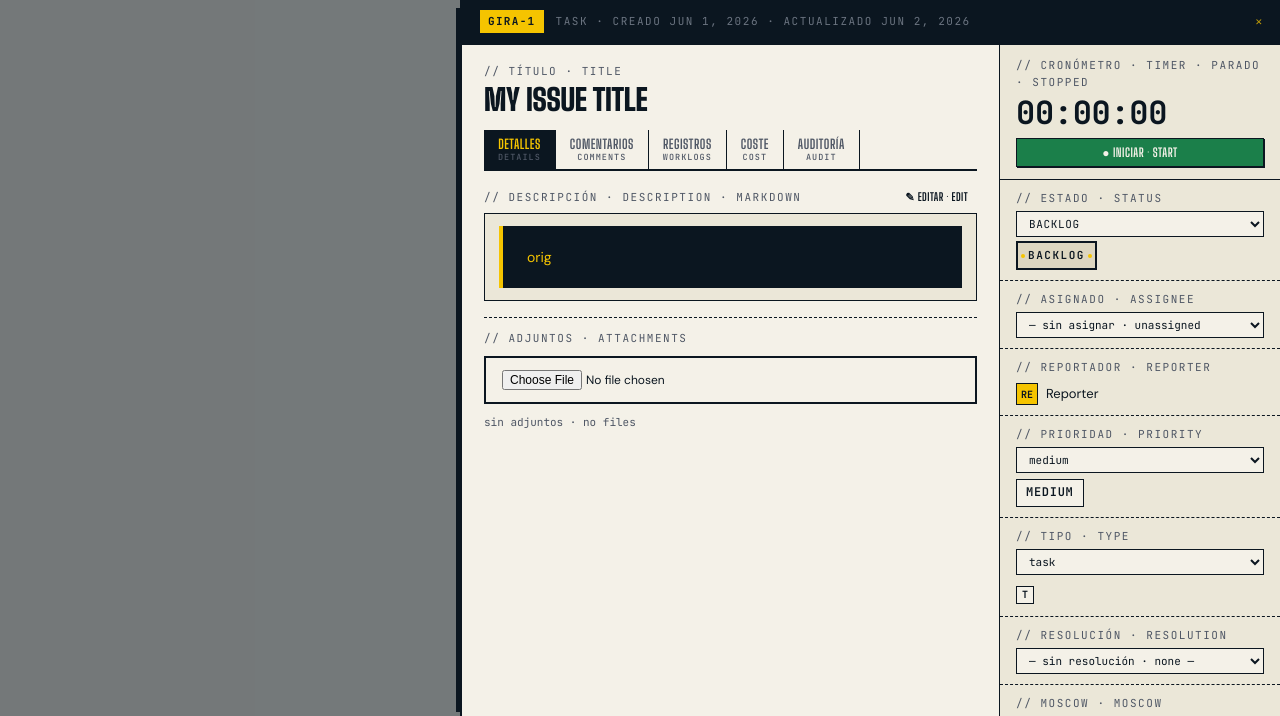
IssueDrawer › cancels the description editor with the Cancel button
Expected: the text "orig" is shown, [499,226,962,288]
Click the button "✎ Editar · Edit" at (937, 197), box [896,187,977,207]
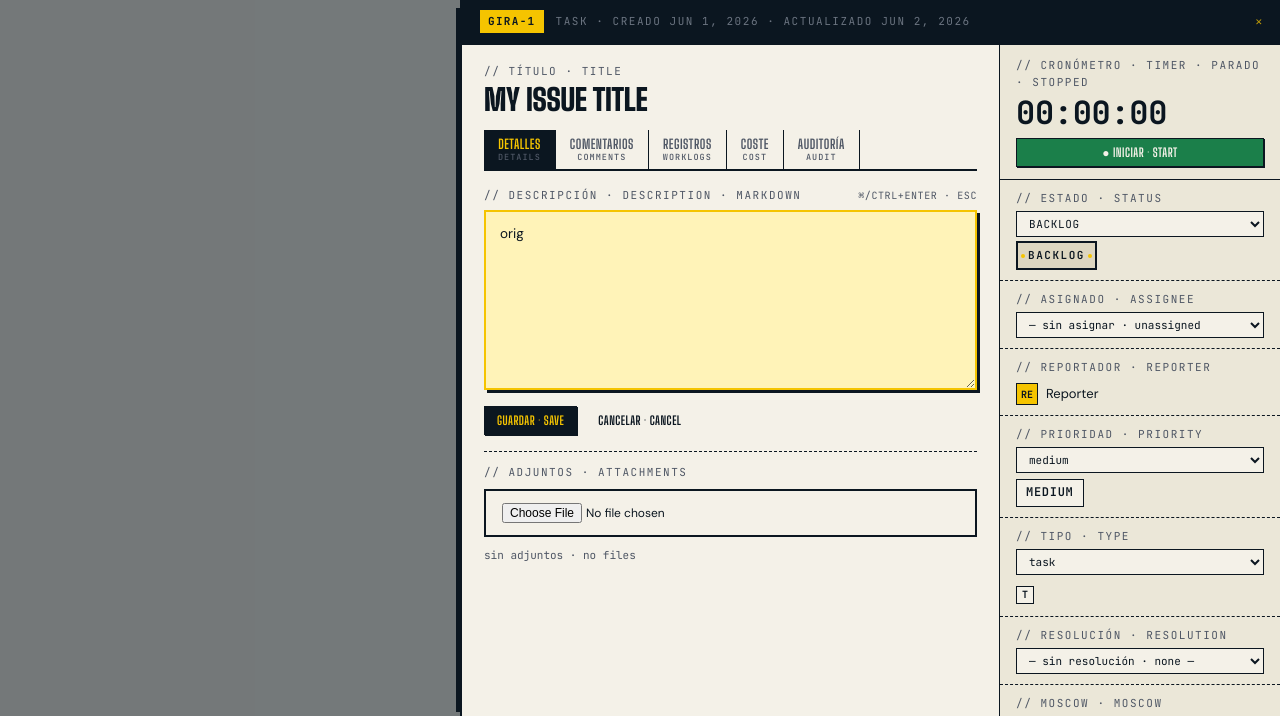
Click the button "Cancelar · Cancel" at (640, 420), box [585,406,694,435]
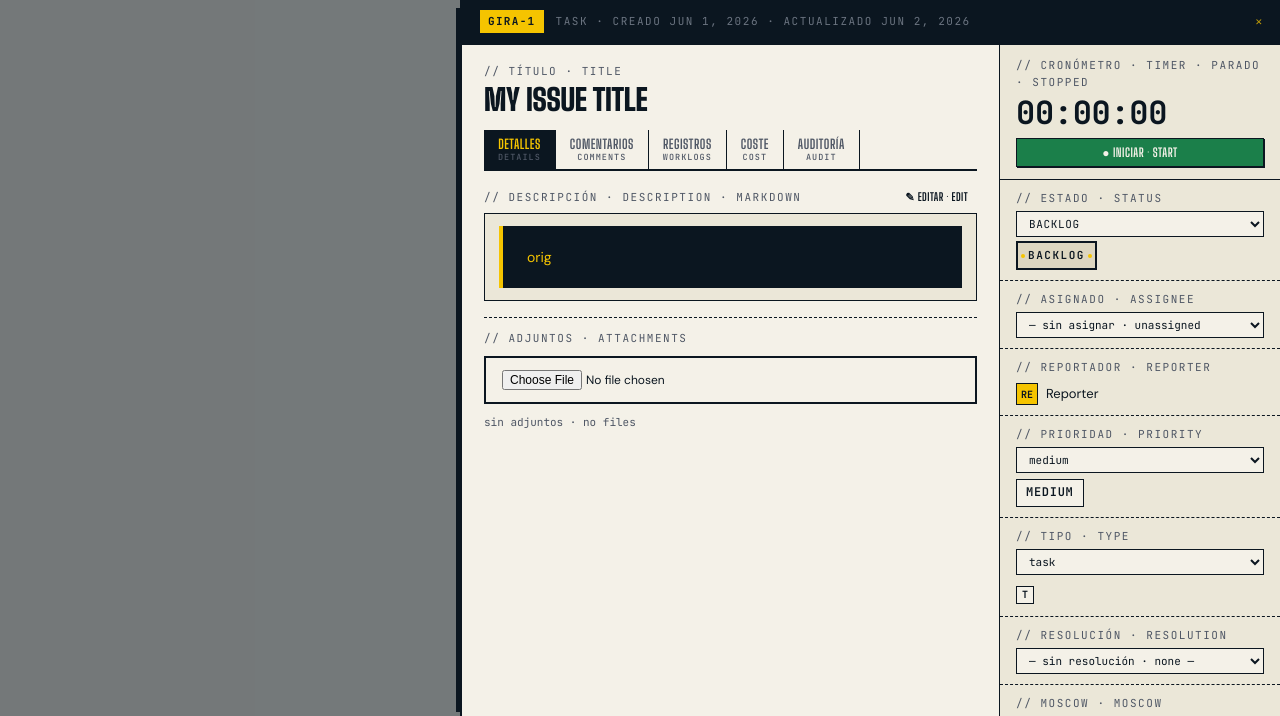
Expected: the text "orig" is shown, [499,226,962,288]
